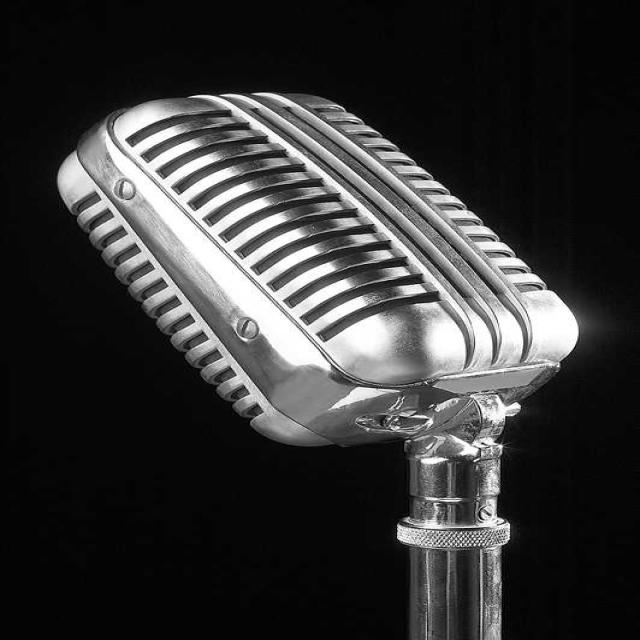microphone: (56, 86, 588, 420)
